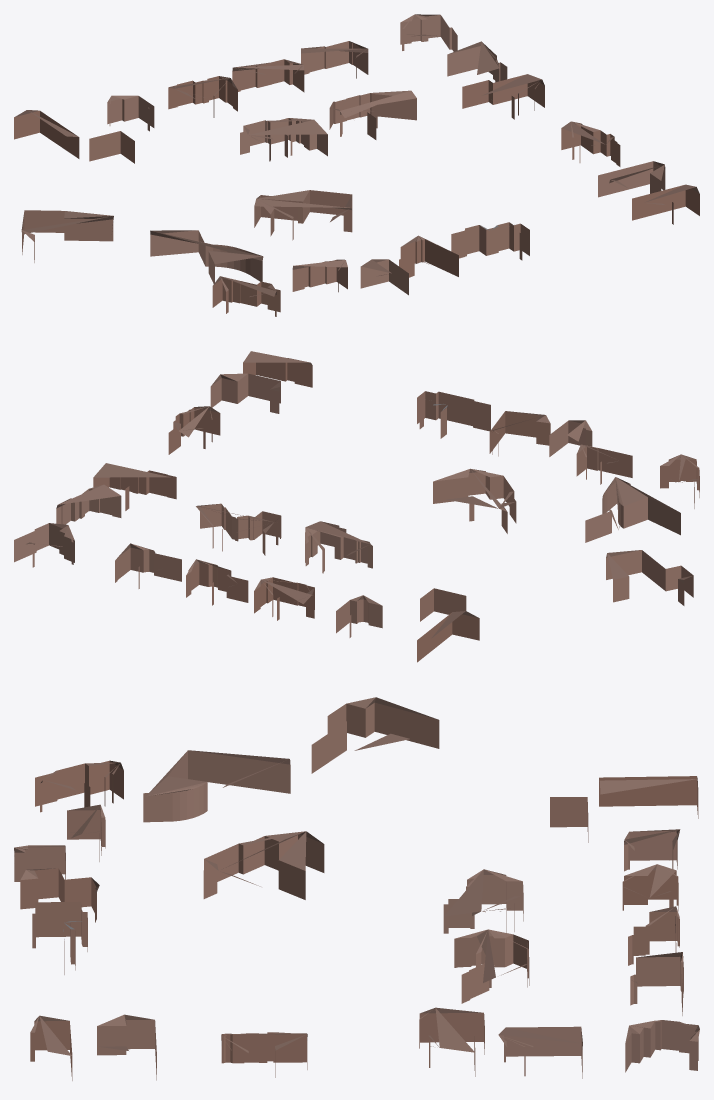
The model's file is c_1647_17823_buildings_residential.glb.
3 views of the same model, one above another, from view 1: azimuth 30°, elevation 25°; view 2: azimuth 150°, elevation 25°; view 3: azimuth 270°, elevation 25° (orthographic). The views are drawn at different scales.
Visible parts, largest first — view 1: geometry_0; view 2: geometry_0; view 3: geometry_0.
Part boxes in pixels (x1,y1,x2,y2): geometry_0: (14,14,699,316); geometry_0: (14,351,699,662); geometry_0: (14,697,699,1080).
Bounding box in the file's own units: 240 × 11.08 × 196.
